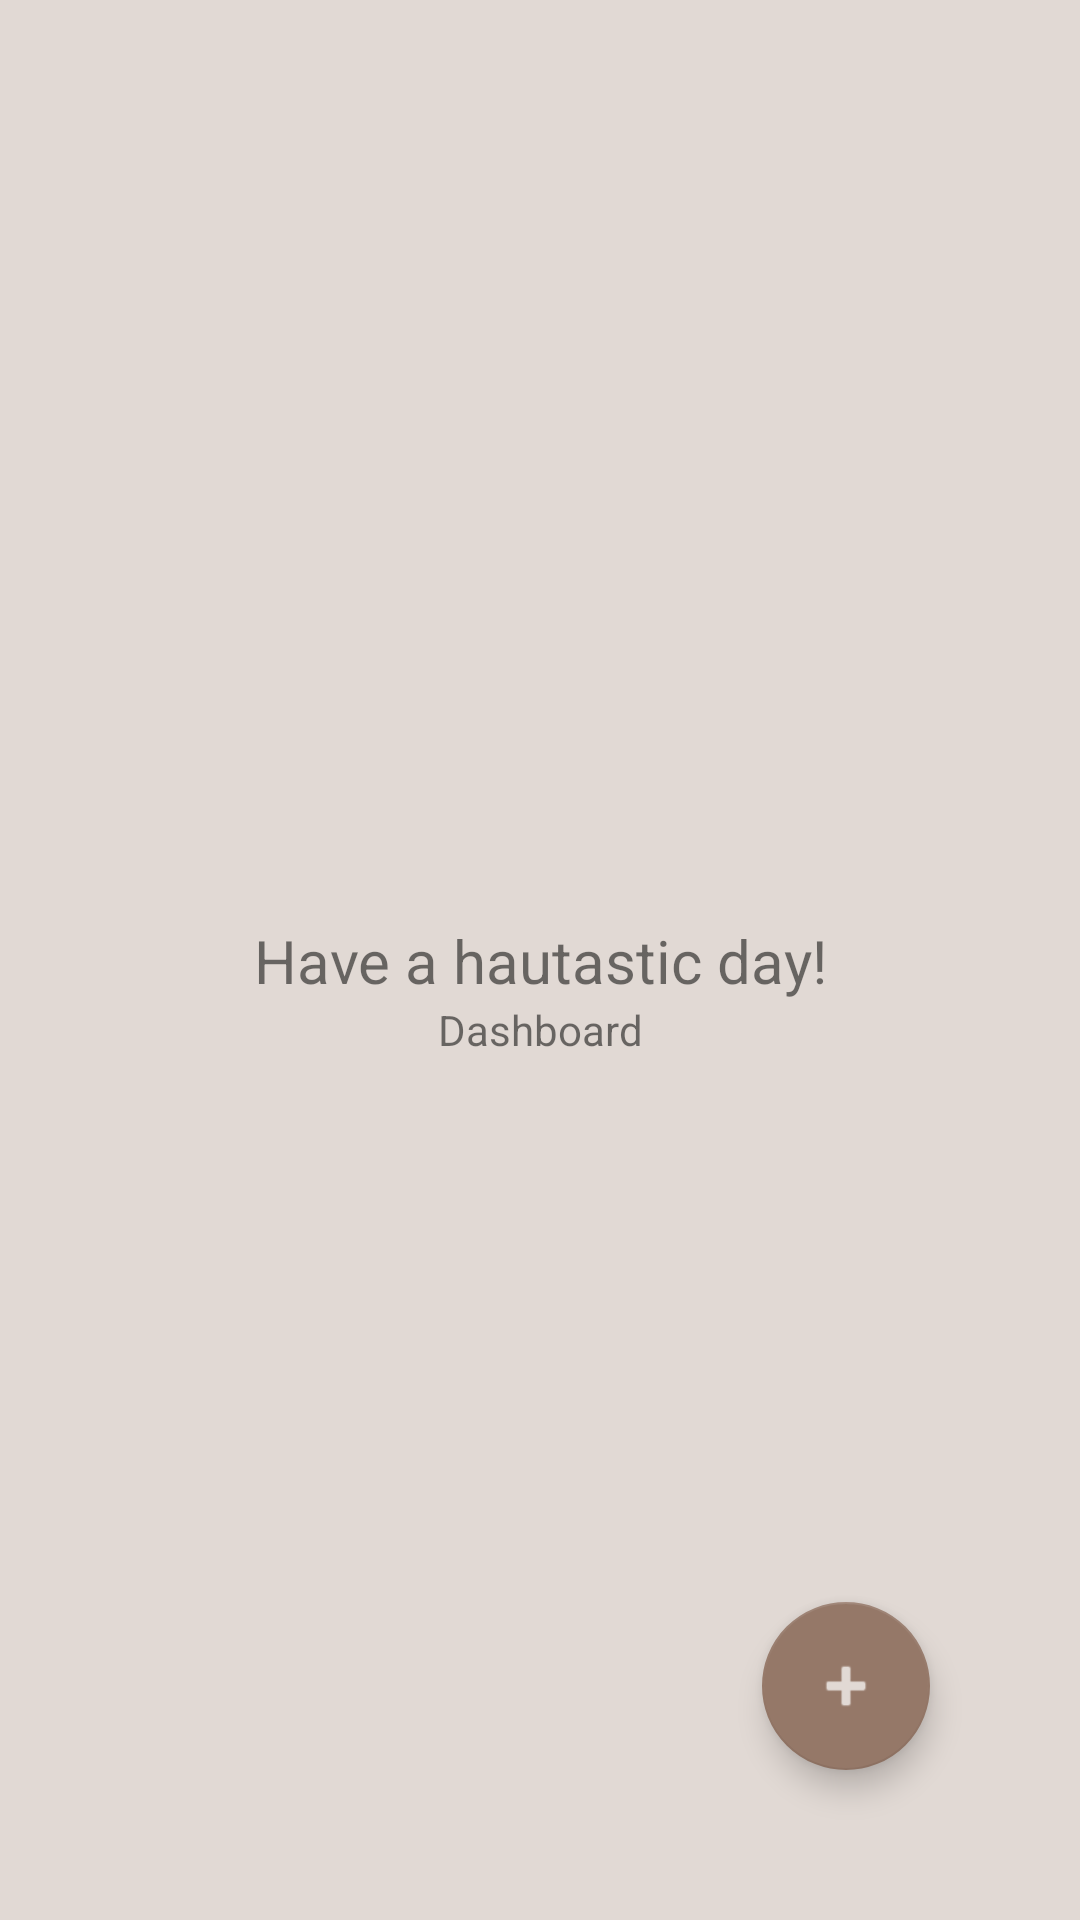

Screen size 1080*1920. Icon name, then its box in pixels as box=[x1, y1, x2, y2]:
add: box=[762, 1602, 930, 1770]
